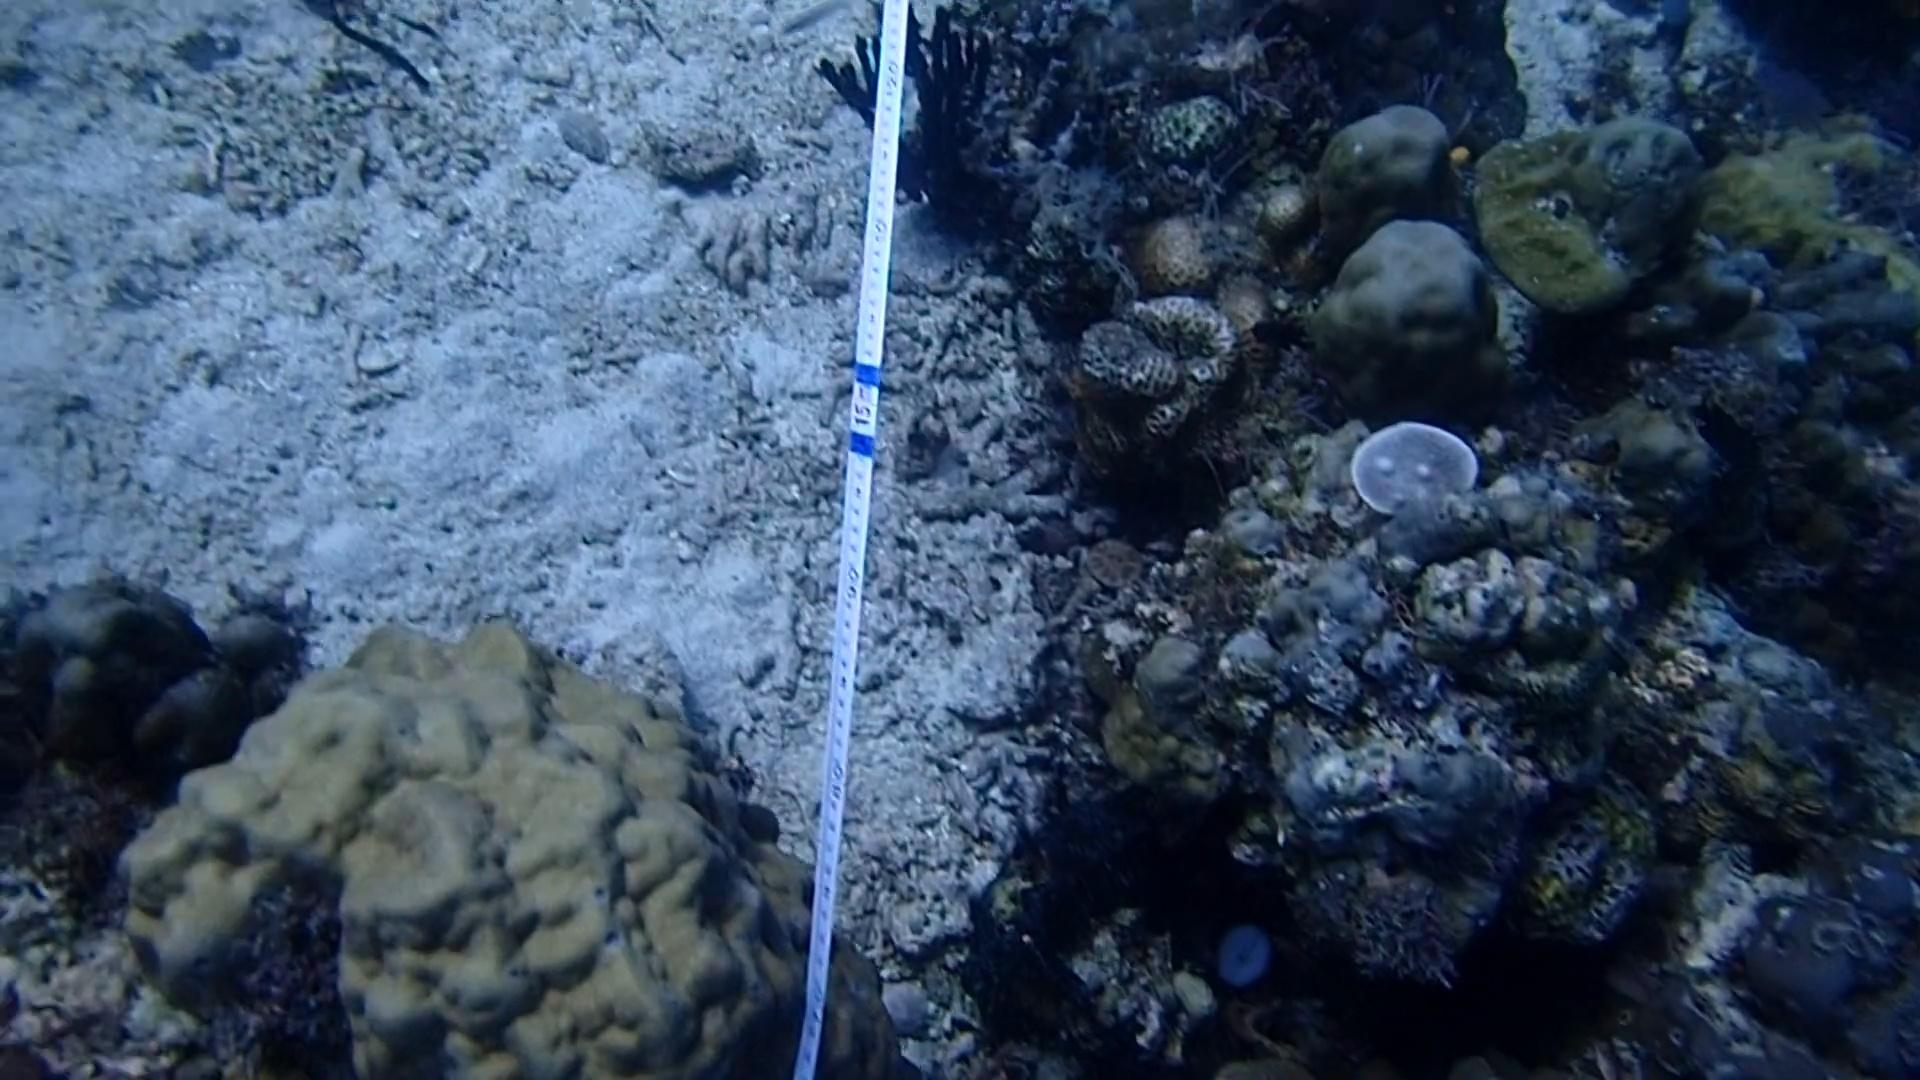Dark Fish: (1246, 302, 1313, 365)
